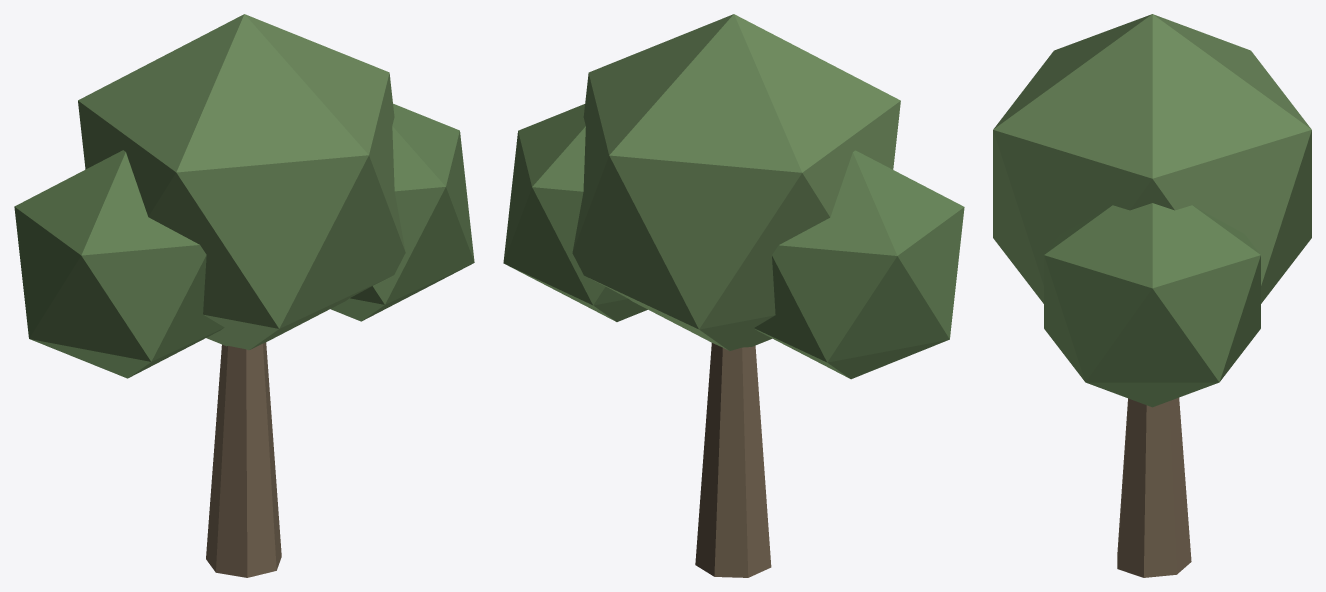
File: bush_real_lod1.glb
3 views of the same model, side by side, from view 1: azimuth 30°, elevation 25°; view 2: azimuth 150°, elevation 25°; view 3: azimuth 270°, elevation 25° (orthographic).
Visible parts, largest first — view 1: bush_real_lod1; view 2: bush_real_lod1; view 3: bush_real_lod1.
Boxes of the visible parts, box(x1,y1,x2,y2) form: bush_real_lod1: box(14, 14, 474, 577); bush_real_lod1: box(503, 14, 964, 577); bush_real_lod1: box(993, 14, 1311, 577).
Size of the model in its own units: 0.9884 by 1.2 by 0.633.
